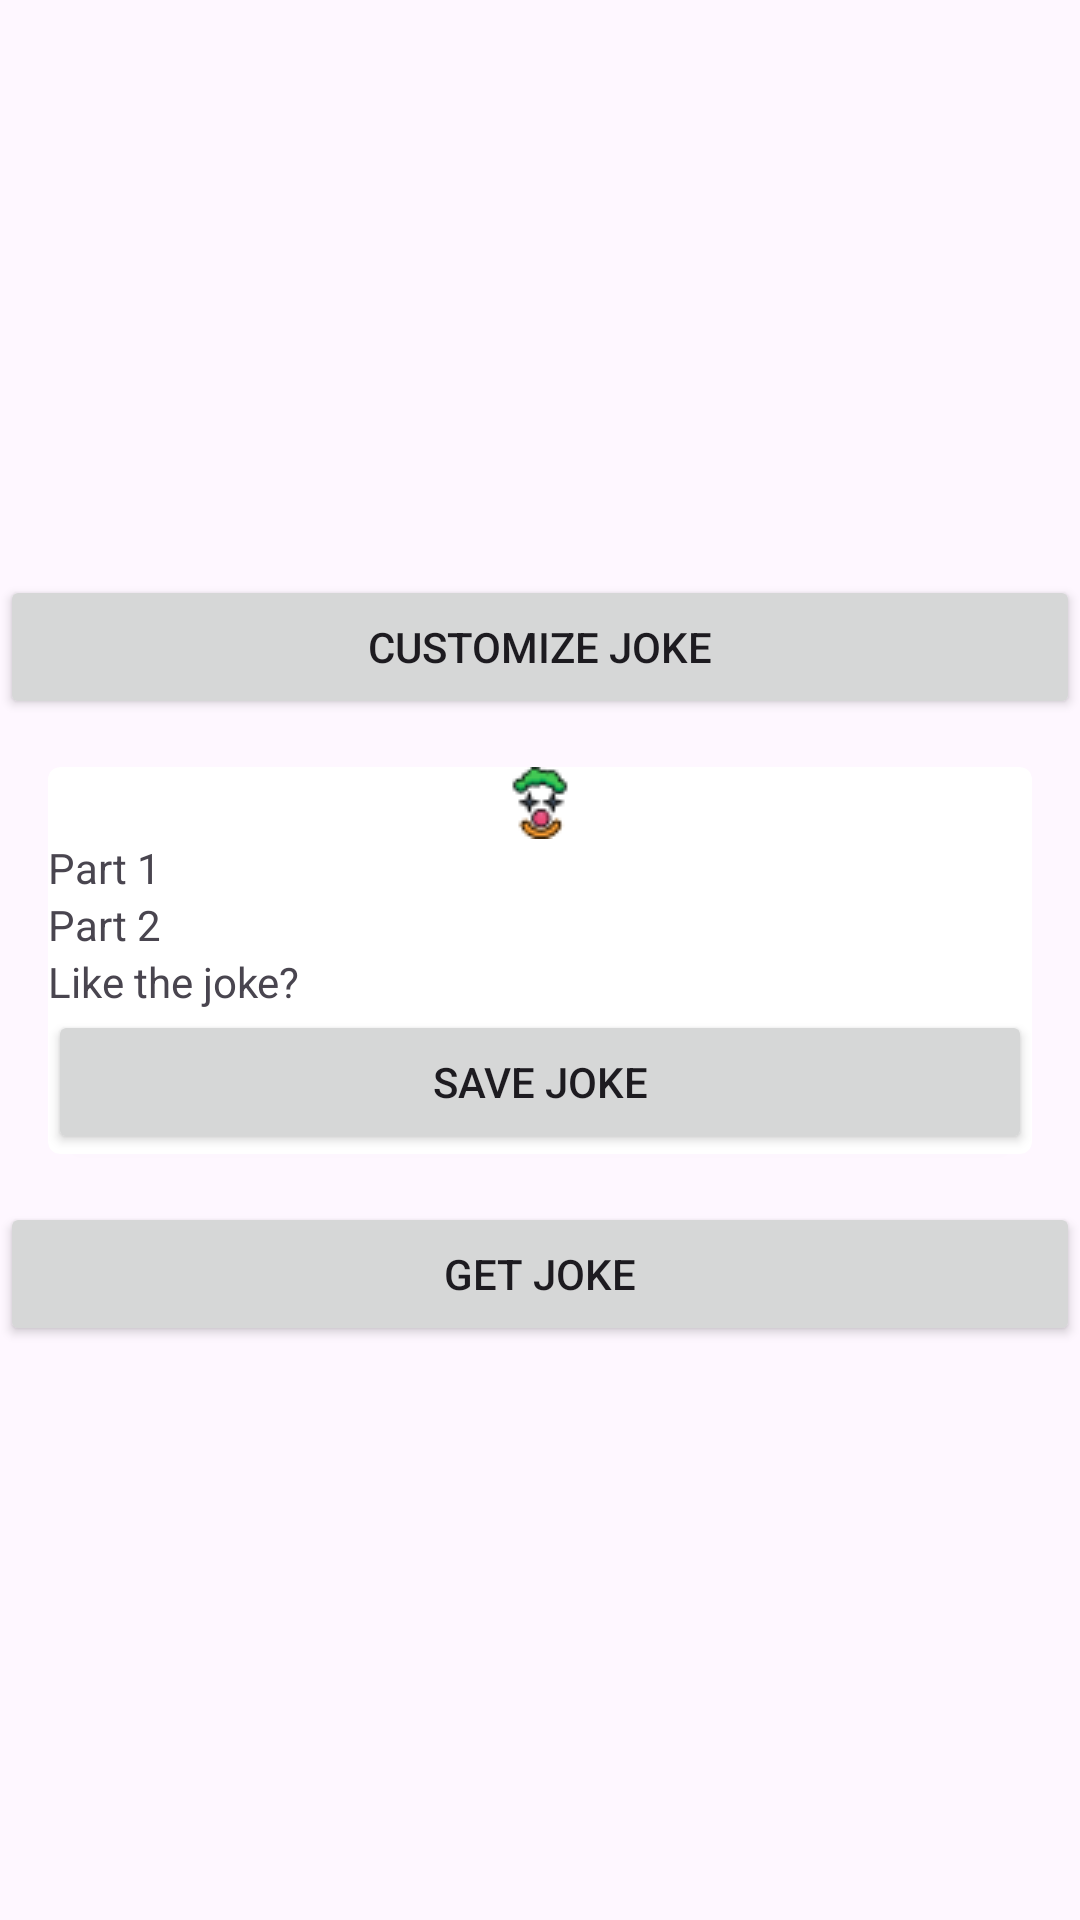

Icons on this 1080 x 1920 Android screen, each with its box as [x1=x1, y1=y1, x2=x2, y2=y2]:
joker: [x1=512, y1=767, x2=568, y2=839]
